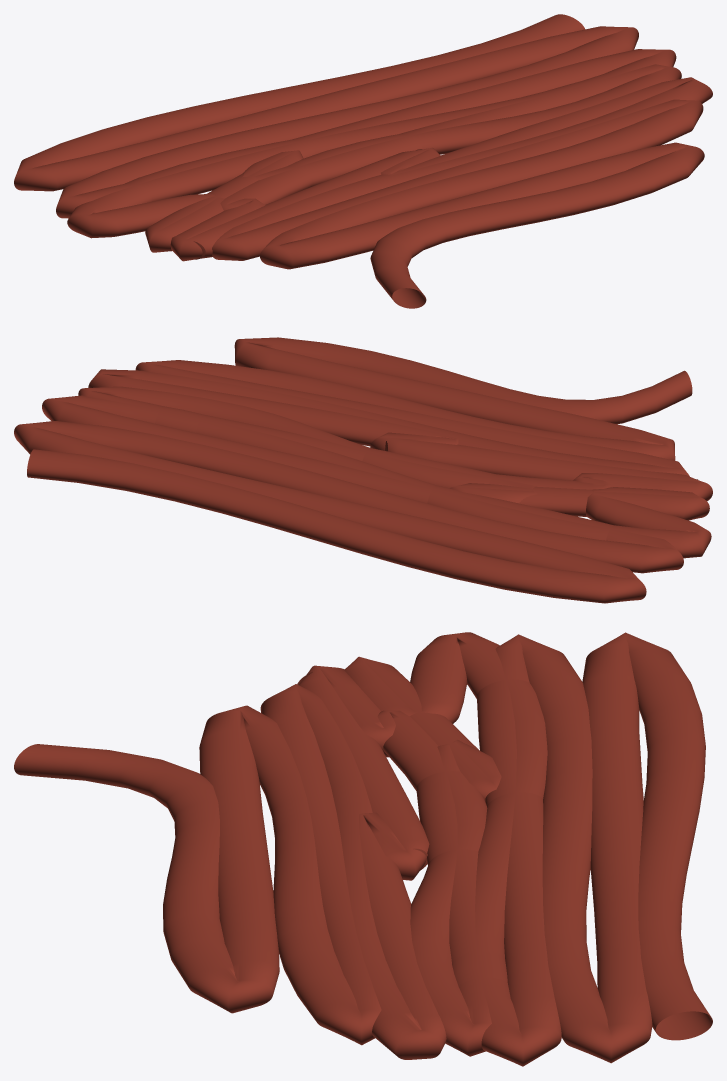
The model's file is small intestine.fbx.
The picture shows the model from 3 angles, top to bottom: view 1: azimuth 30°, elevation 25°; view 2: azimuth 150°, elevation 25°; view 3: azimuth 270°, elevation 25°; orthographic projection. The views are drawn at different scales.
Visible parts, largest first — view 1: BezierCurve; view 2: BezierCurve; view 3: BezierCurve.
Boxes of the visible parts, x1,y1,x2,y2 form: BezierCurve: (14, 14, 712, 308); BezierCurve: (14, 337, 712, 603); BezierCurve: (14, 632, 712, 1066).
Bounding box in the file's own units: 355 × 10.98 × 251.
